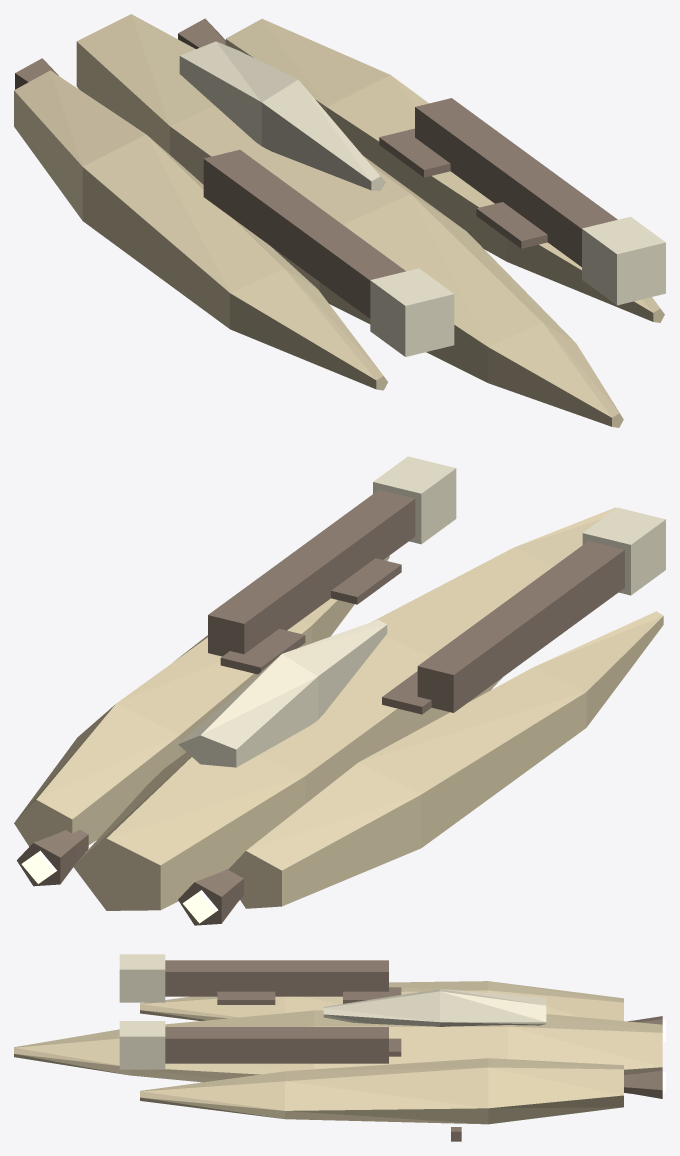
The picture shows the model from 3 angles, top to bottom: view 1: azimuth 30°, elevation 25°; view 2: azimuth 150°, elevation 25°; view 3: azimuth 270°, elevation 25°; orthographic projection. The views are drawn at different scales.
Size of the model in its own units: 11.16 by 4.46 by 26.67.
